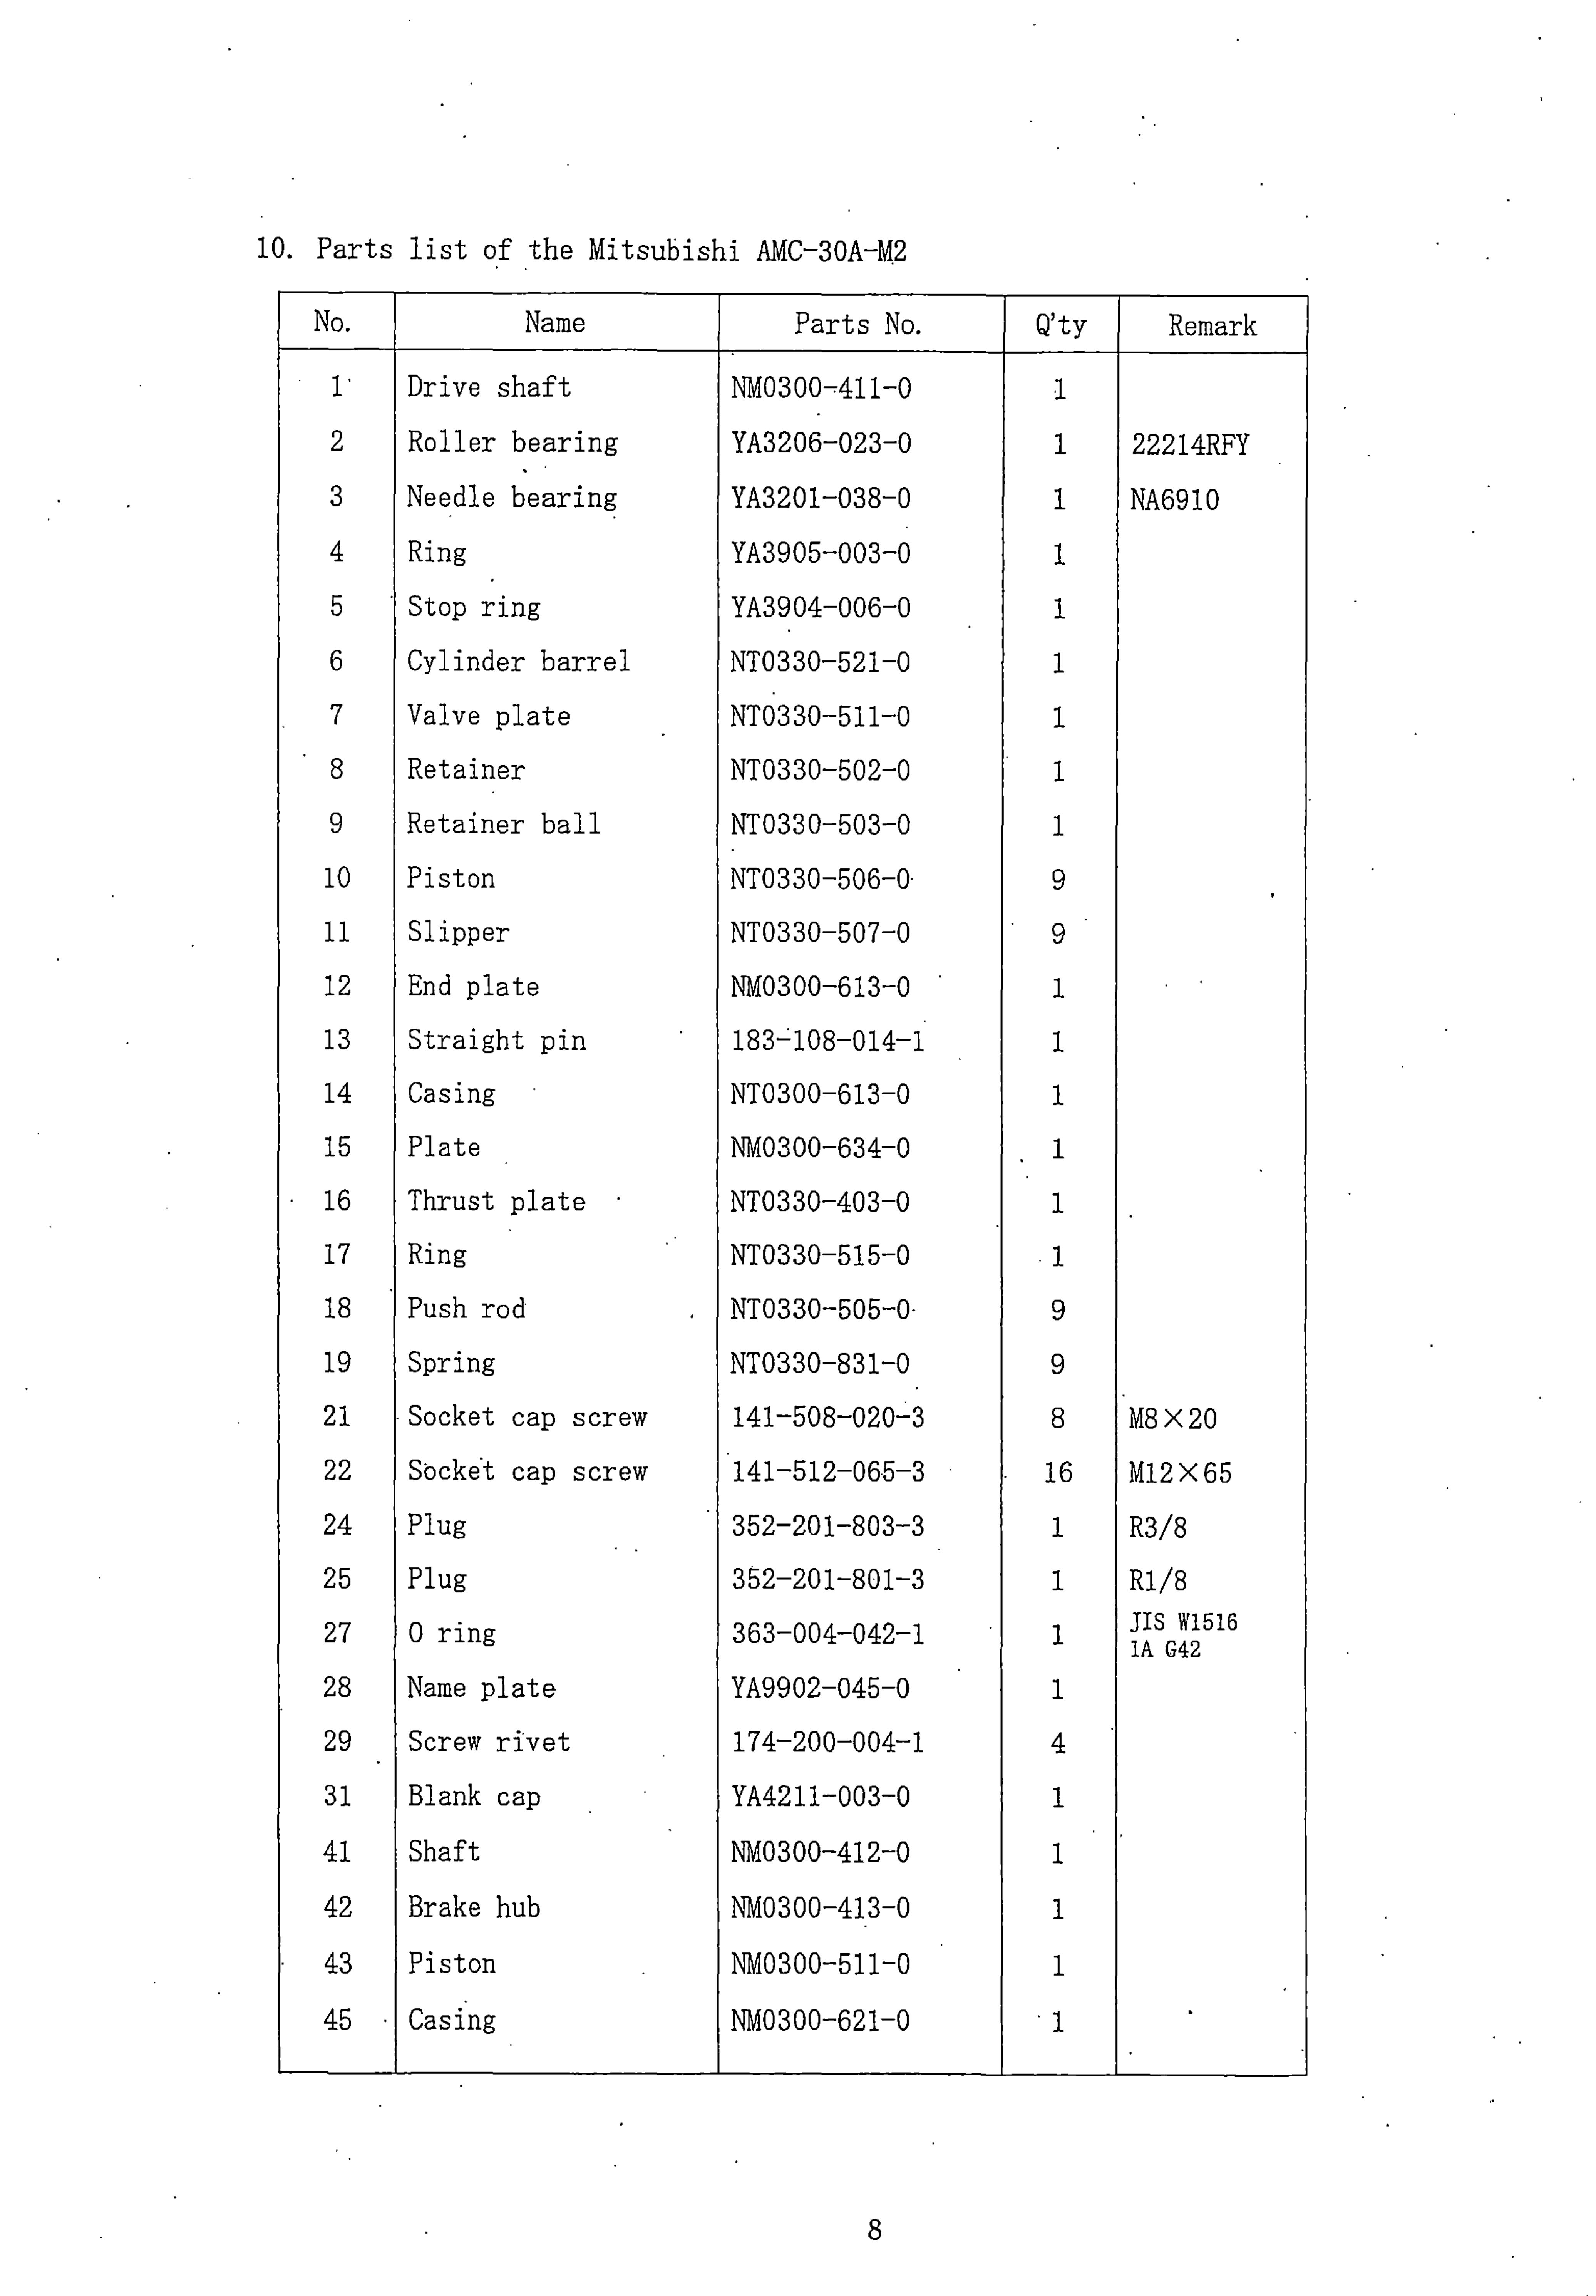Table: (258, 283, 1326, 2102)
